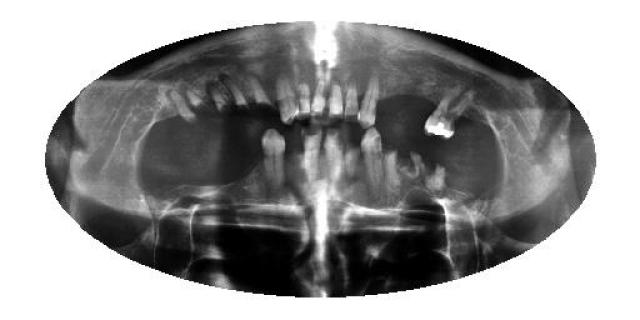Cavity: (248, 75, 278, 115), (172, 94, 202, 130), (188, 86, 214, 119), (210, 81, 231, 119), (230, 79, 250, 115)
Fillings: (424, 88, 474, 138)
